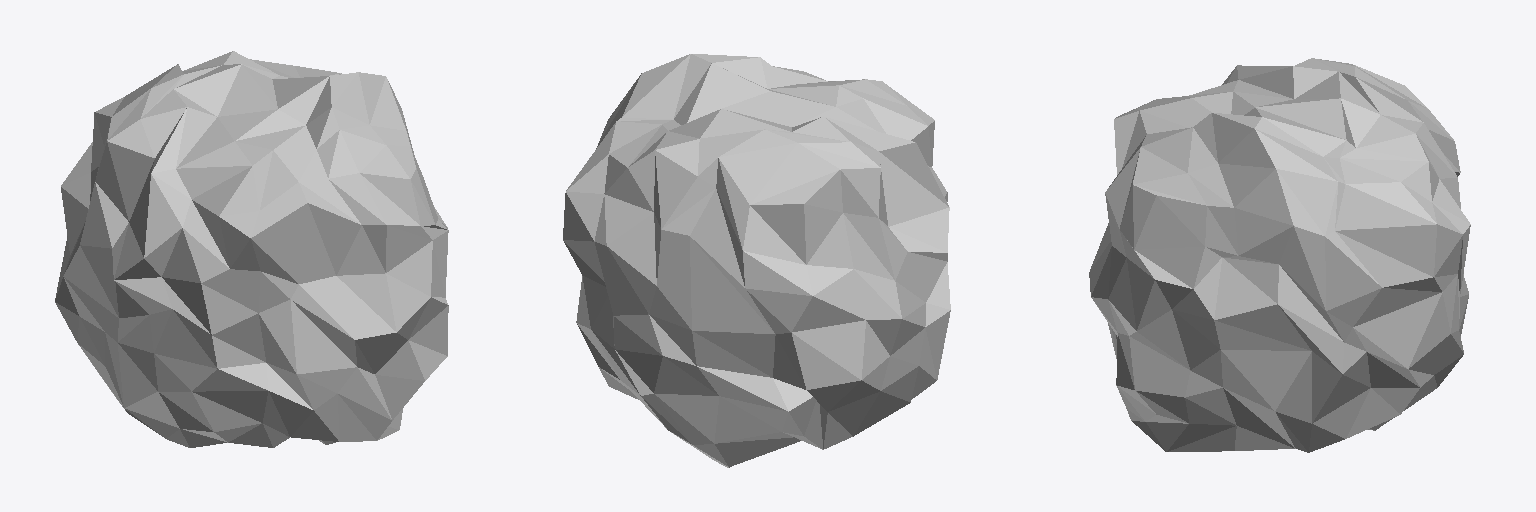
The model's file is asteroid2.obj.
3 views of the same model, side by side, from view 1: azimuth 30°, elevation 25°; view 2: azimuth 150°, elevation 25°; view 3: azimuth 270°, elevation 25° (orthographic).
Visible parts, largest first — view 1: Cube; view 2: Cube; view 3: Cube.
Part boxes in pixels (left/top/right/bottom): Cube: left=55, top=51, right=448, bottom=447; Cube: left=563, top=54, right=950, bottom=467; Cube: left=1089, top=58, right=1470, bottom=452.
Bounding box in the file's own units: 1.97 × 1.97 × 2.